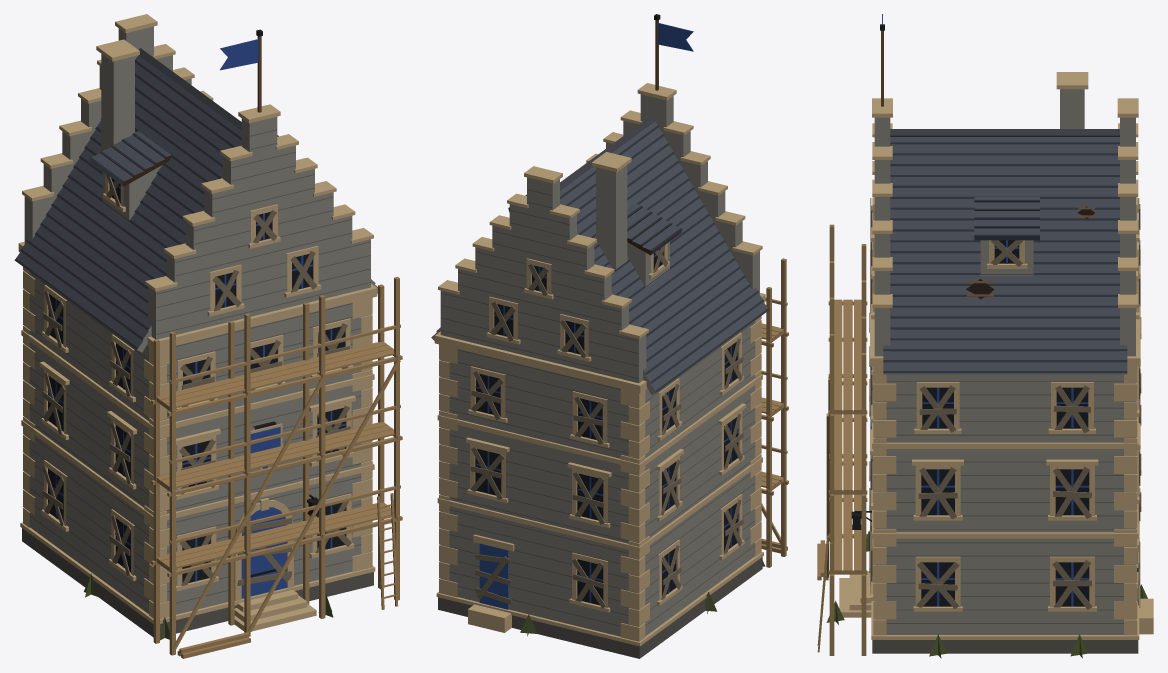
The model's file is steinhaus.glb.
3 renders of one model, left to right at view 1: azimuth 30°, elevation 25°; view 2: azimuth 150°, elevation 25°; view 3: azimuth 270°, elevation 25°, orthographic. The views are drawn at different scales.
Visible parts, largest first — view 1: Haus, Geruest, Leerstand, Fahne, Wappen; view 2: Haus, Leerstand, Geruest, Fahne; view 3: Haus, Geruest, Leerstand.
Boxes of the visible parts, box(x1,y1,x2,y2) form: Haus: box(14, 14, 377, 637); Geruest: box(151, 276, 402, 658); Leerstand: box(42, 174, 351, 640); Fahne: box(220, 29, 262, 112); Wappen: box(250, 421, 282, 469); Haus: box(431, 83, 768, 658); Leerstand: box(470, 245, 765, 636); Geruest: box(761, 258, 788, 567); Fahne: box(654, 14, 693, 90); Haus: box(839, 72, 1153, 653); Geruest: box(817, 224, 867, 655); Leerstand: box(826, 198, 1147, 658).
Bounding box in the file's own units: 7.96 × 17.96 × 9.52.
